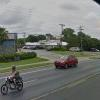Motorcycle: (2, 61, 29, 96)
